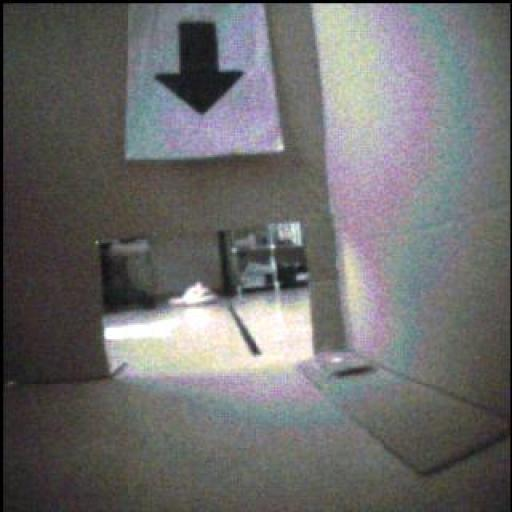arrow: (156, 24, 244, 115)
